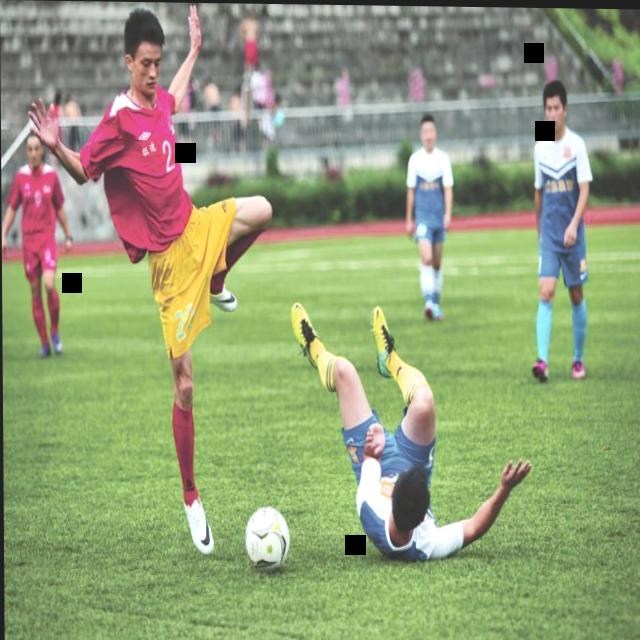Fall-Detected: (278, 283, 527, 566)
